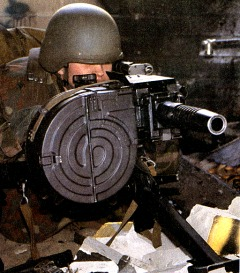rifle: (33, 90, 225, 267)
